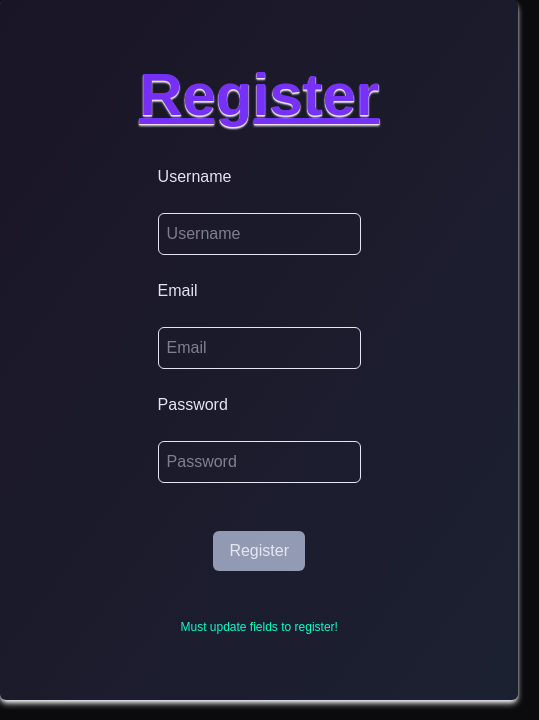
Scenario: RegisterForm › displays an error when registration fails
In the field labelled "Username": coordinates (259, 234) [158,213,361,255], type "nick"
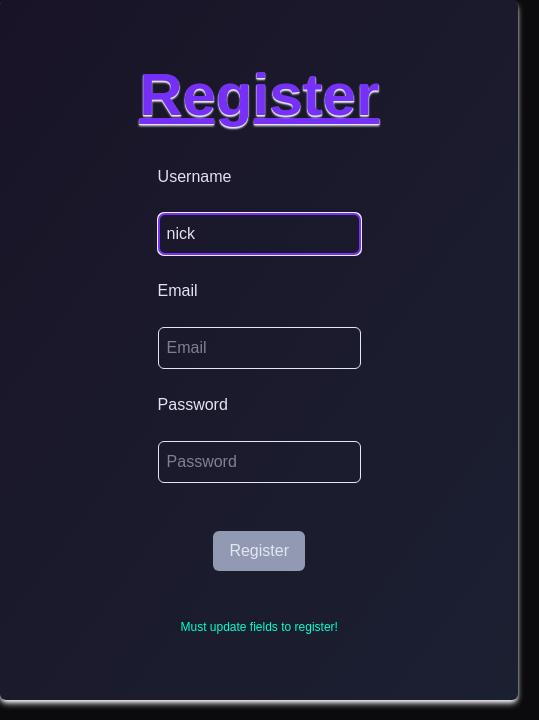
In the field labelled "Email": coordinates (259, 348) [158,327,361,369], type "nick@gmail.com"
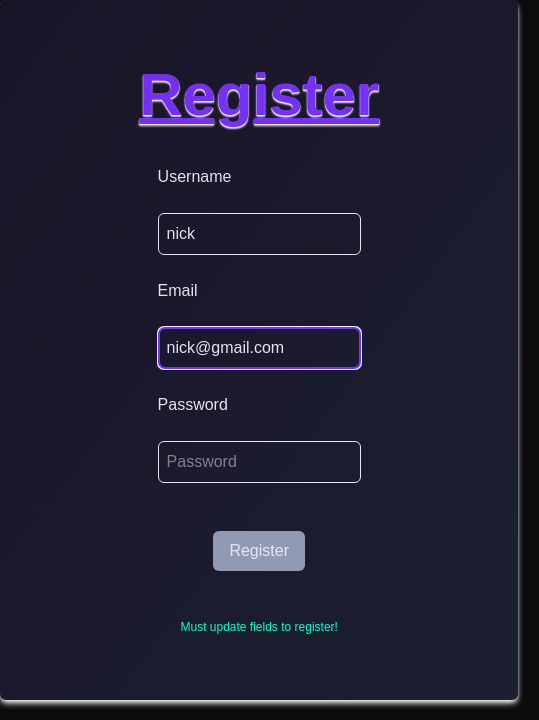
In the password field labelled "Password": coordinates (259, 462) [158,441,361,483], type "password123"
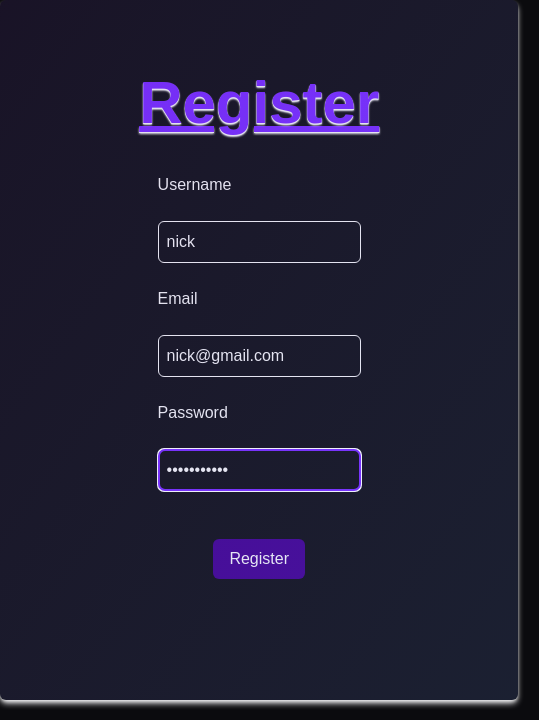
Click the button "Register": coordinates (259, 559) [213,539,305,579]
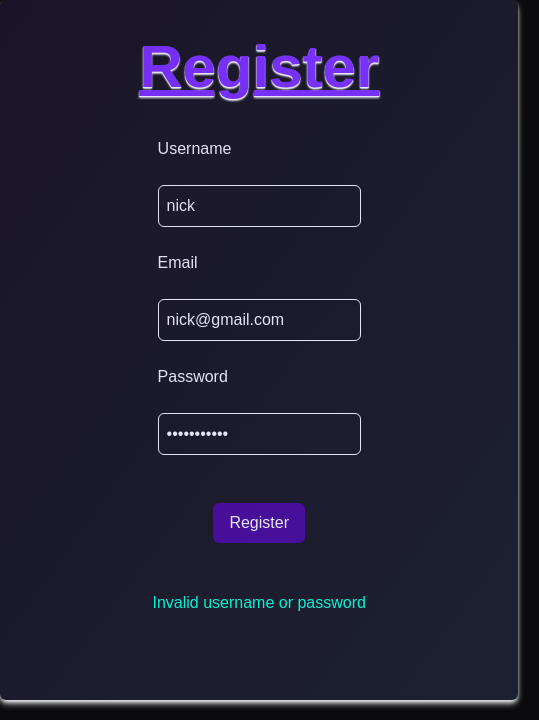
Check: the text "Invalid username or password" is shown, box [152,594,366,611]
